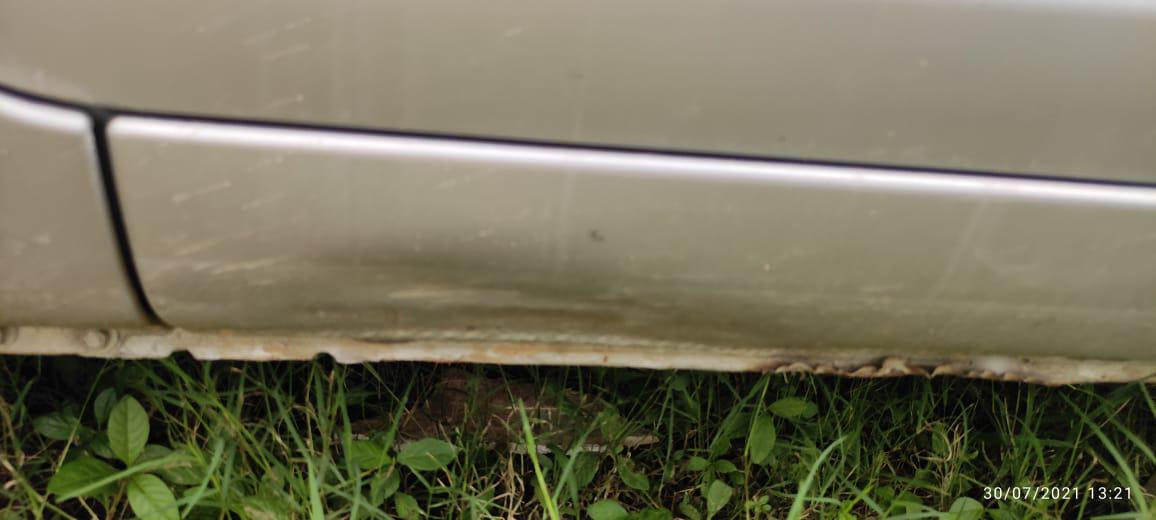RunningBoard-Dent: (98, 99, 1094, 397)
